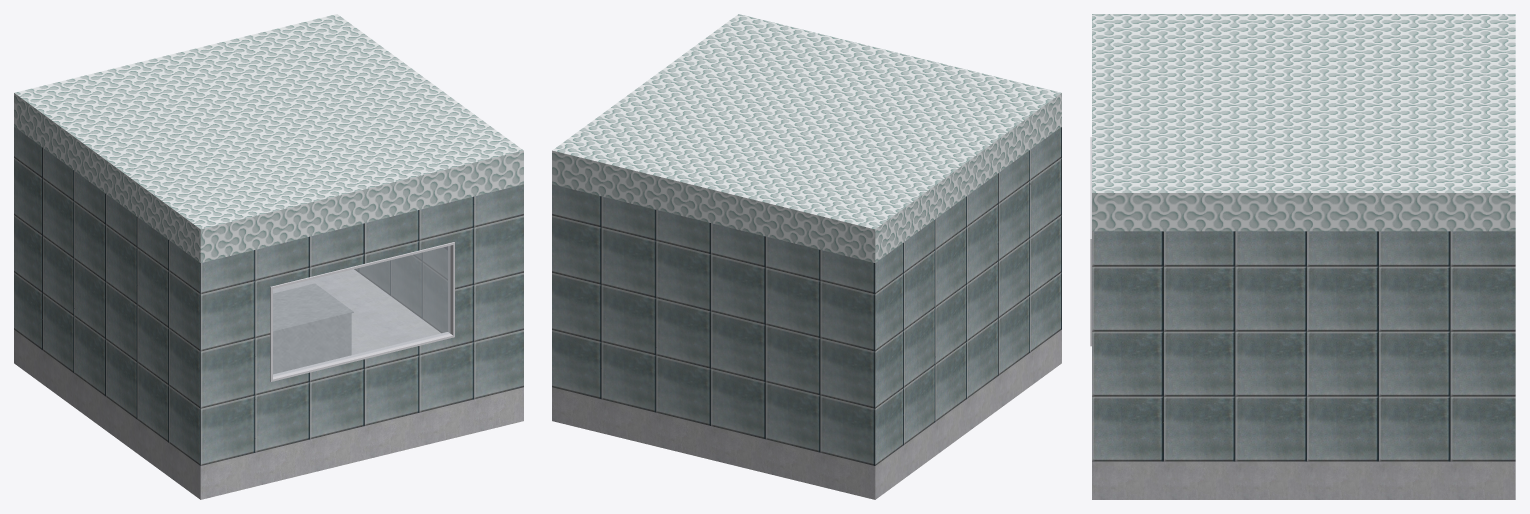
Rendered from studyroom.glb.
3 renders of one model, left to right at view 1: azimuth 30°, elevation 25°; view 2: azimuth 150°, elevation 25°; view 3: azimuth 270°, elevation 25°, orthographic. The views are drawn at different scales.
Visible parts, largest first — view 1: Untitled, Untitled.002, Untitled.014, Untitled.001, Untitled.015; view 2: Untitled; view 3: Untitled.
Boxes of the visible parts, x1,y1,x2,y2 form: Untitled: [14, 14, 523, 499]; Untitled.002: [273, 246, 450, 376]; Untitled.014: [273, 313, 351, 374]; Untitled.001: [270, 242, 454, 381]; Untitled.015: [273, 283, 353, 332]; Untitled: [552, 14, 1061, 499]; Untitled: [1092, 14, 1515, 499].
Bounding box in the file's own units: 5000 × 4000 × 5020.
Materials: 9 (7 with a texture image).
